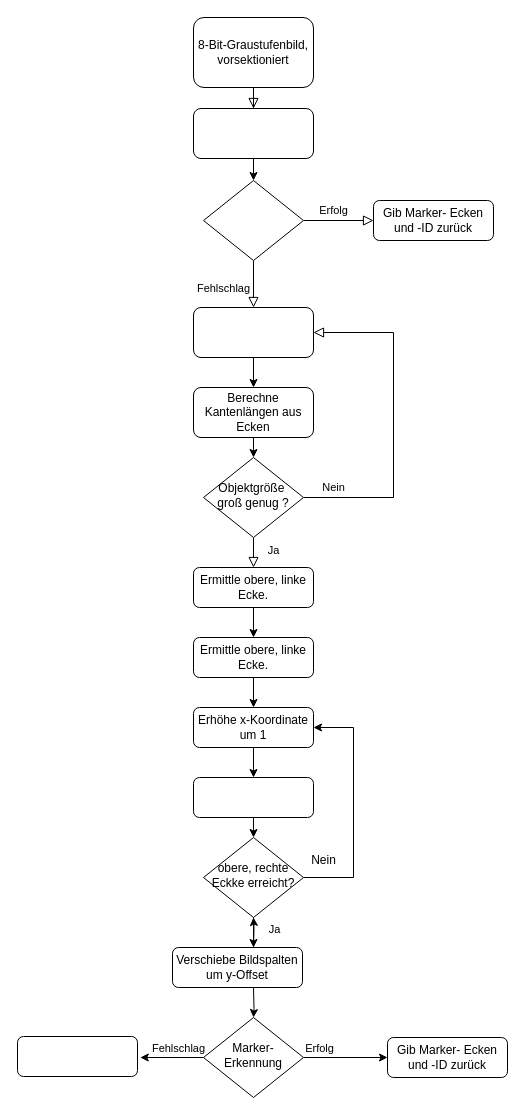
This 525x1115 diagram has some shape labels left out. Here are the shapes that lost their labels. From the top down, the centre of each, then its label:
[253,133]: Wandle Bild in Binärbild um
[253,220]: Marker- Erkennung
[253,332]: Extrahiere Rechteck aus Rückgabeparametern
[253,797]: Ermittle y-Offset
[77,1056]: Gib None zurück
